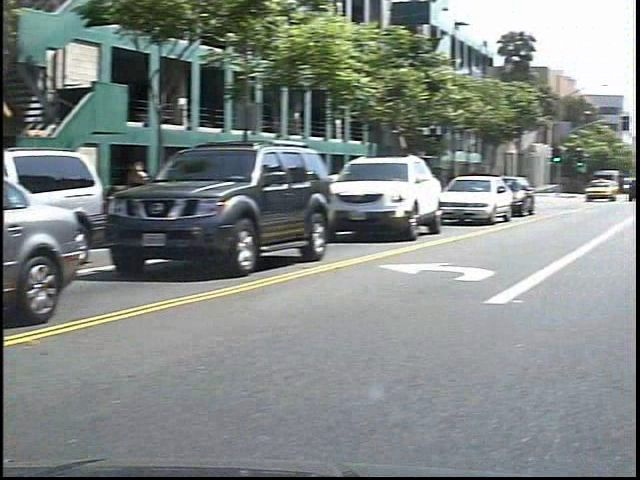person: (139, 155, 168, 235)
